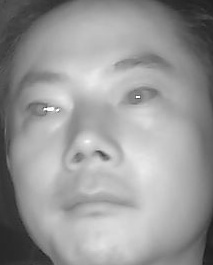eye: (22, 97, 69, 122), (116, 86, 161, 110)
mouth: (56, 184, 137, 224)
